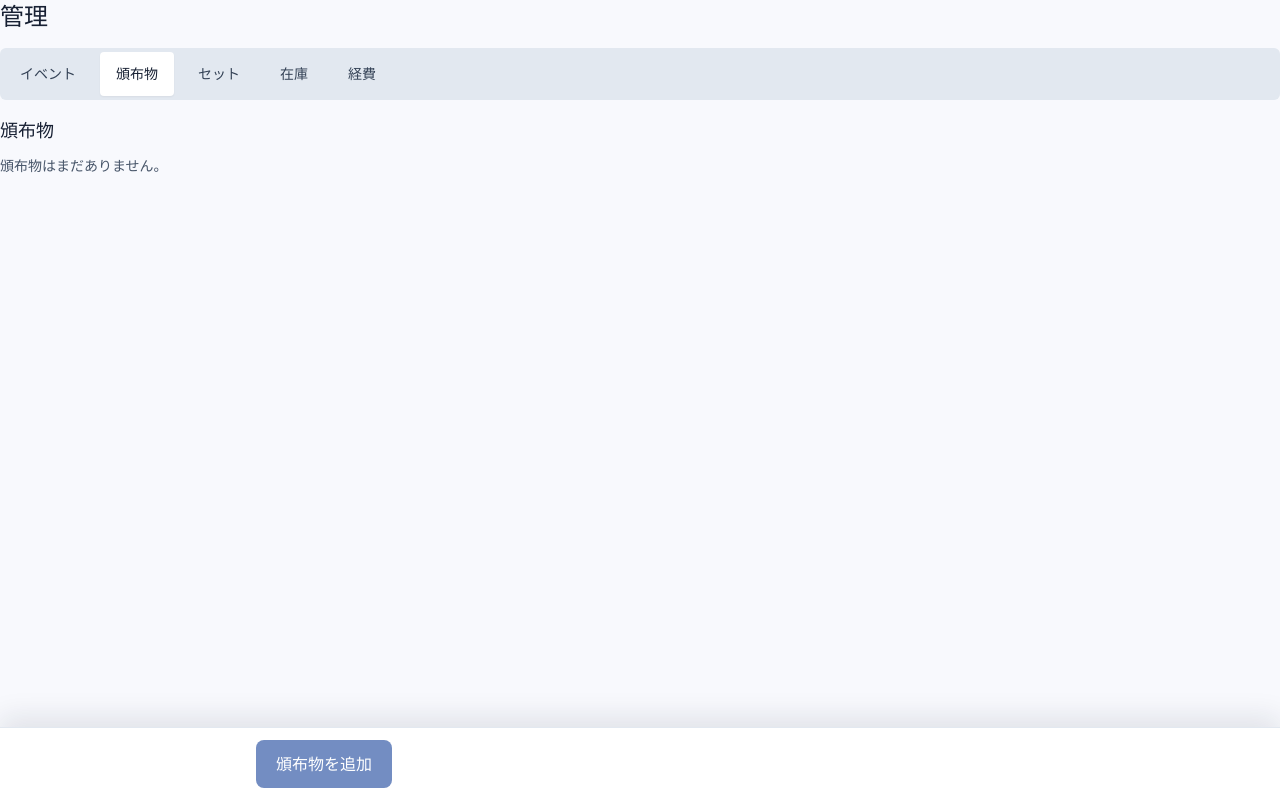
Test: ManagementPage › shows list-first management tabs and opens the product modal from the fixed add button
Expected: the heading "管理" is shown, [0, 0, 48, 32]
Expected: the text "頒布物はまだありません。" is shown, [0, 156, 168, 175]
Click the button "頒布物を追加" at (324, 764), box [256, 740, 392, 788]
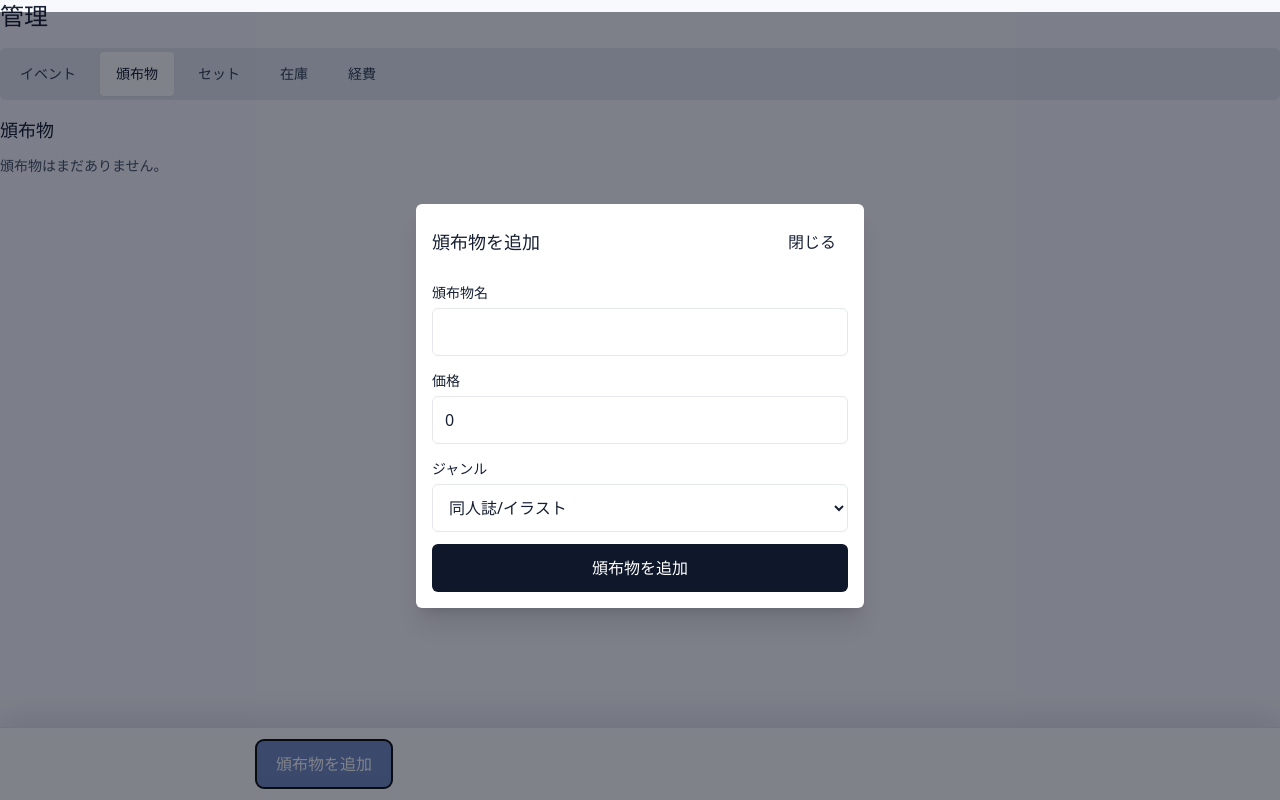
Expected: the field labelled "頒布物名" is shown, [432, 308, 848, 356]
Now the dialog "頒布物を追加" is shown, box [416, 204, 864, 608]
